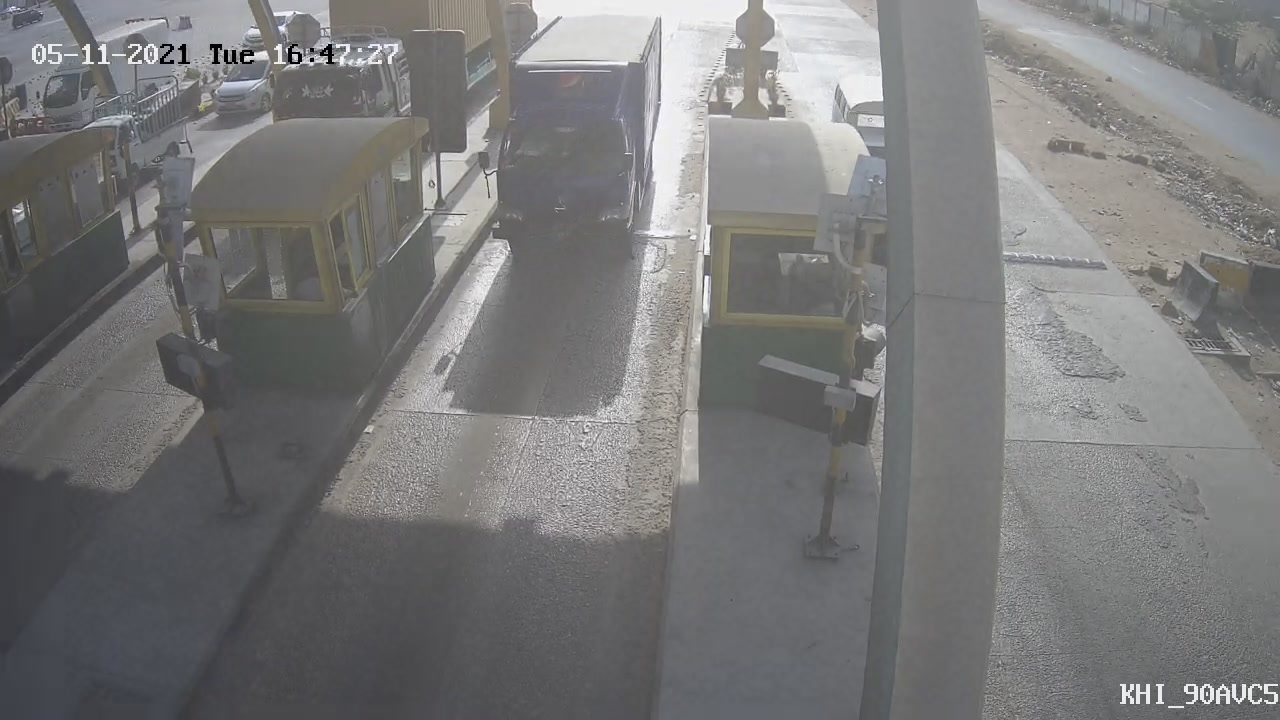F5: (464, 8, 681, 278)
